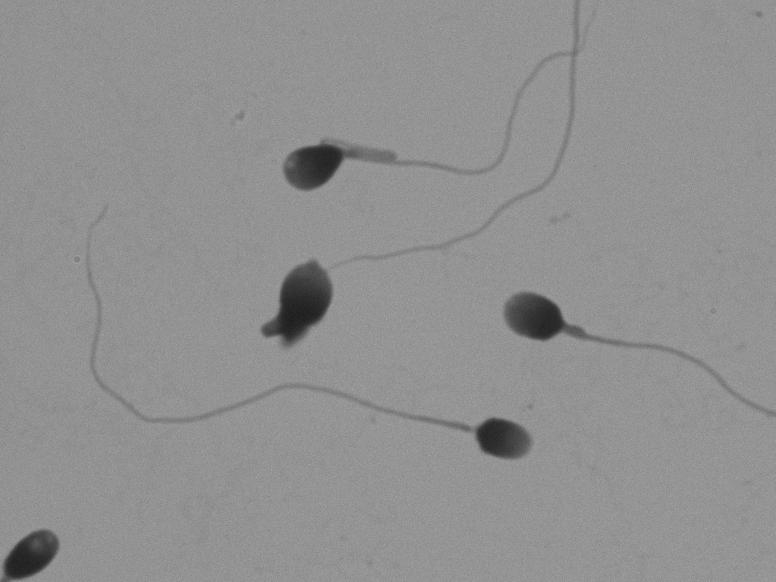Abnormal: (161, 234, 432, 375), (475, 268, 675, 411), (195, 101, 489, 197)
Normal: (91, 352, 549, 509)
